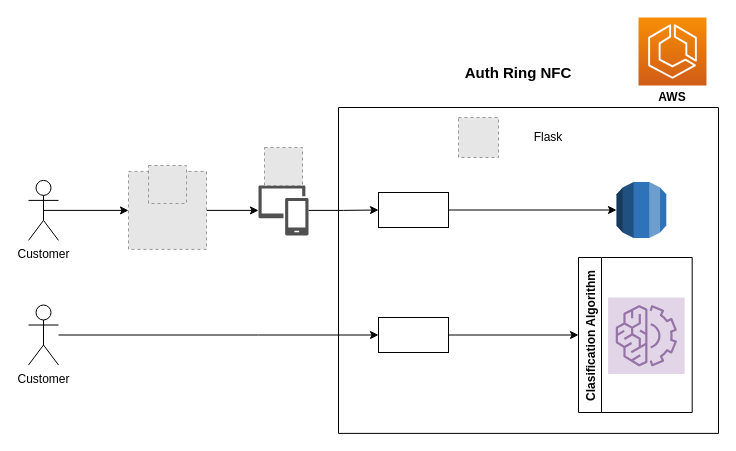
Some shapes in this 736 by 451 pixel diagram are drawn without their labels. Grey dashed boxes stand in for pictures. Here are the shapes that lost their labels. From the top down, the centre of each, then its label:
(413,210): /auth
(413,334): /identify
